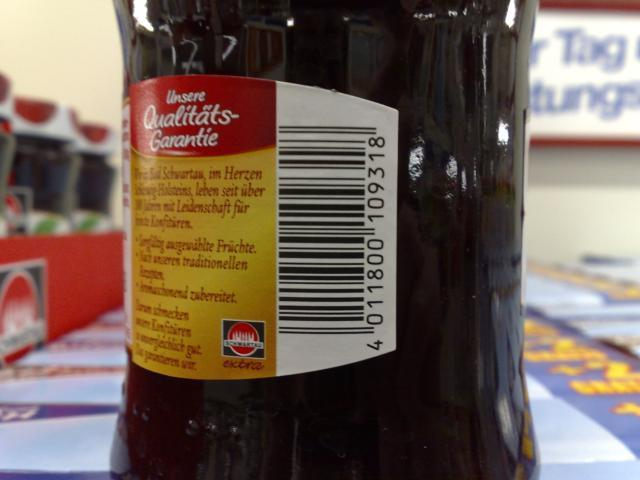Barcode: (274, 117, 393, 357)
